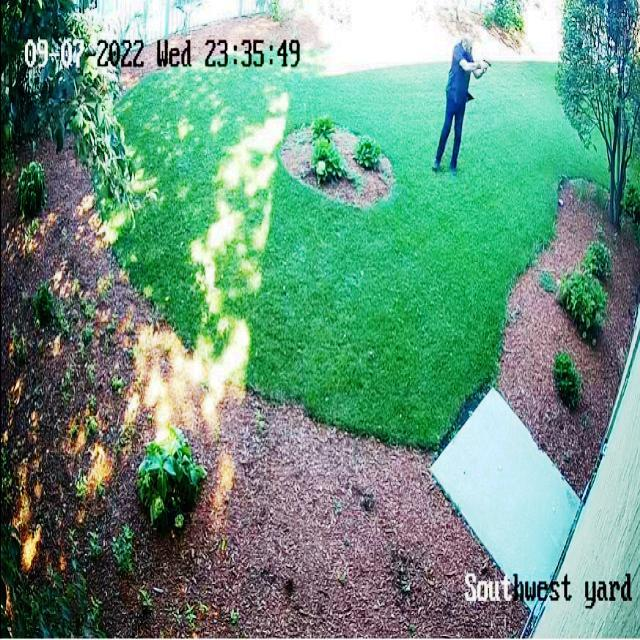Gun: (475, 47, 499, 81)
